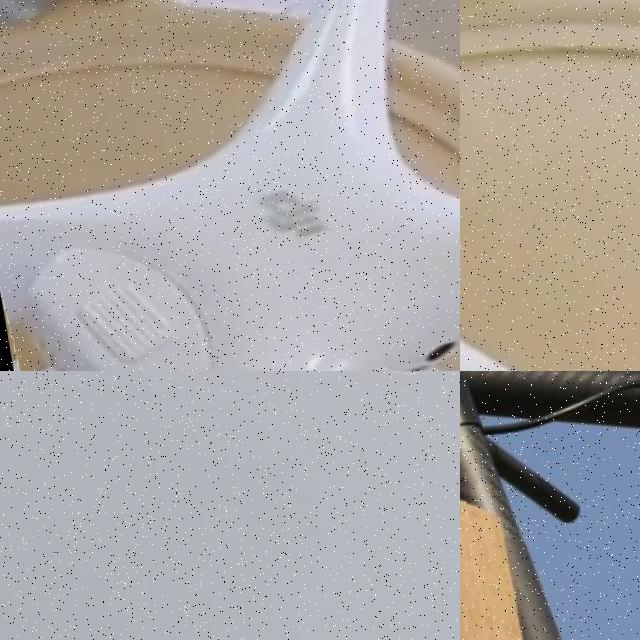drone: (0, 0, 460, 371), (460, 0, 640, 371), (460, 371, 640, 640)
